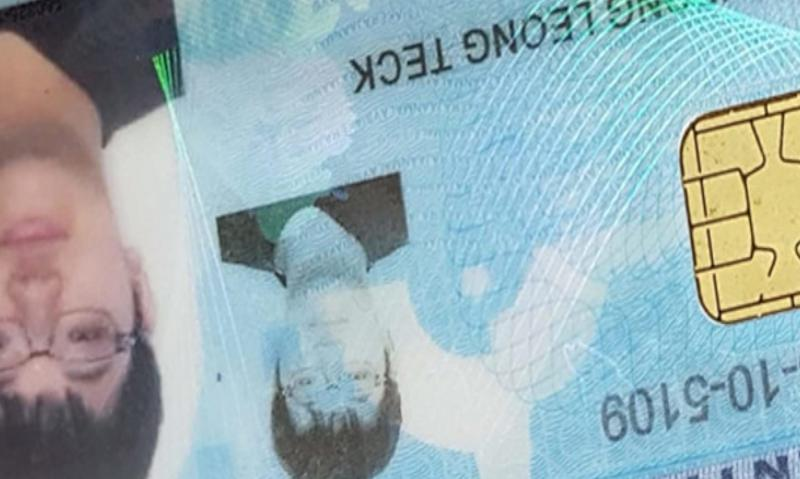hologram: (467, 62, 676, 347)
hologramB: (184, 1, 347, 171)
